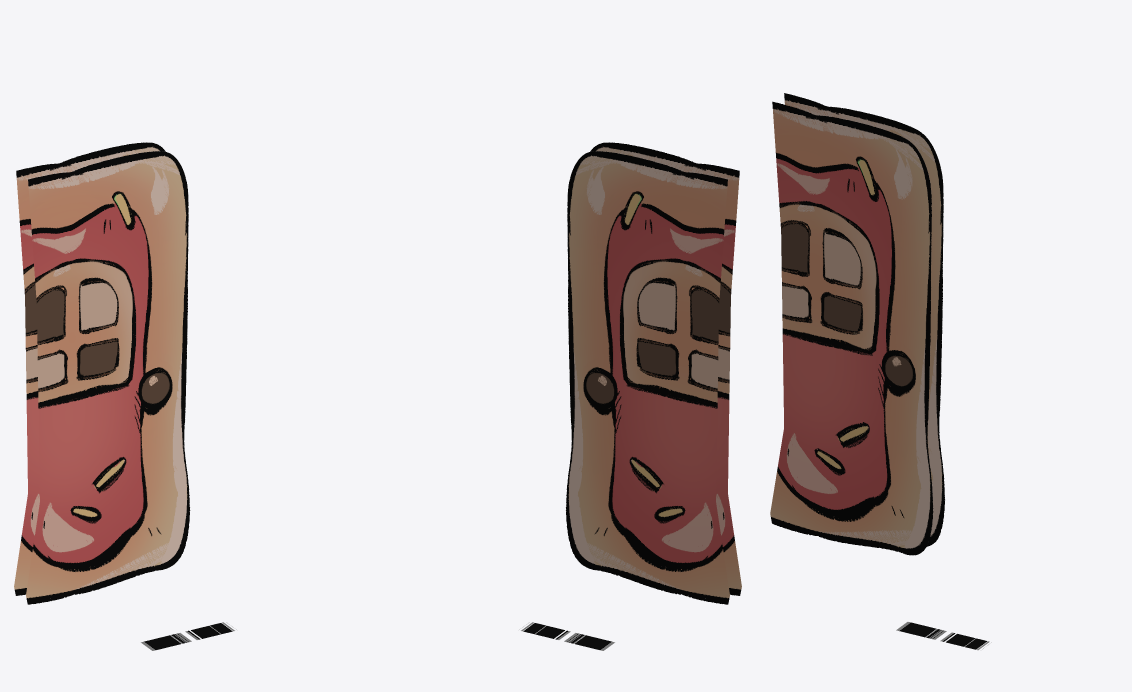
Rendered from DoorMesh.fbx.
3 views of the same model, side by side, from view 1: azimuth 30°, elevation 25°; view 2: azimuth 150°, elevation 25°; view 3: azimuth 330°, elevation 25° (orthographic).
Parts seen in each view (by area): view 1: T_H_Door; view 2: T_H_Door; view 3: T_H_Door.
Part boxes in pixels (left/top/right/bottom): T_H_Door: left=14, top=142, right=236, bottom=650; T_H_Door: left=519, top=142, right=741, bottom=650; T_H_Door: left=770, top=93, right=991, bottom=650.
Size of the model in its own units: 616 by 1038 by 37.5.
1 material, 1 textured.
